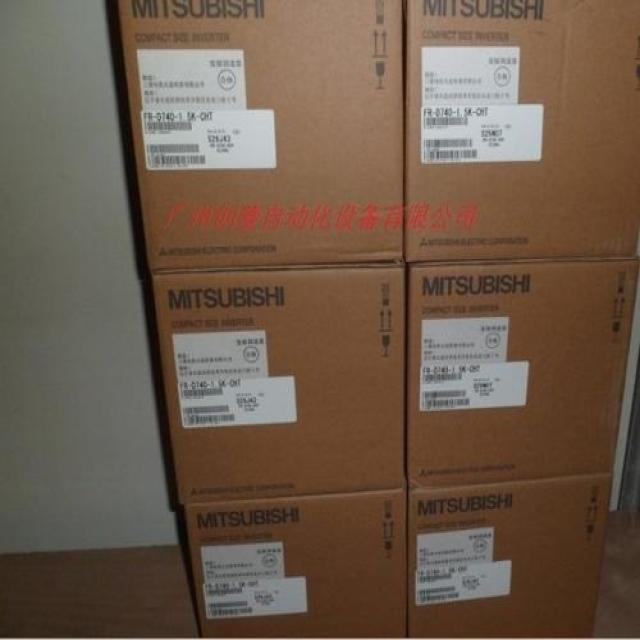box: (117, 1, 402, 271), (405, 3, 639, 262), (151, 264, 405, 500), (406, 257, 639, 488), (406, 471, 615, 637), (183, 488, 408, 637)
